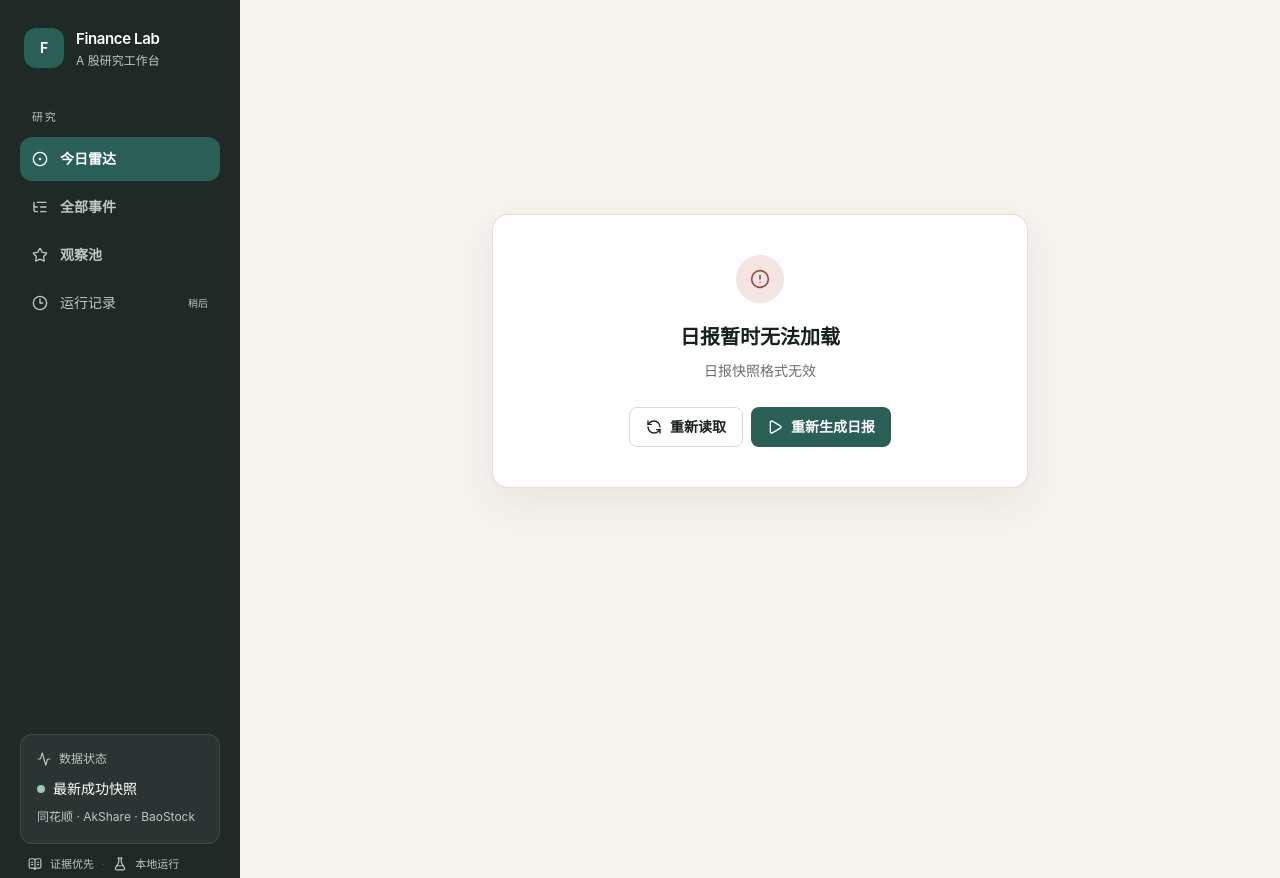
Test case: TodayPage › renders an API error and retries the latest snapshot
Check: the heading "日报暂时无法加载" is shown, box [680, 325, 840, 349]
Check: the text "日报快照格式无效" is shown, box [704, 362, 816, 379]
Click the button "重新读取".
click(686, 427)  # box [629, 407, 743, 447]
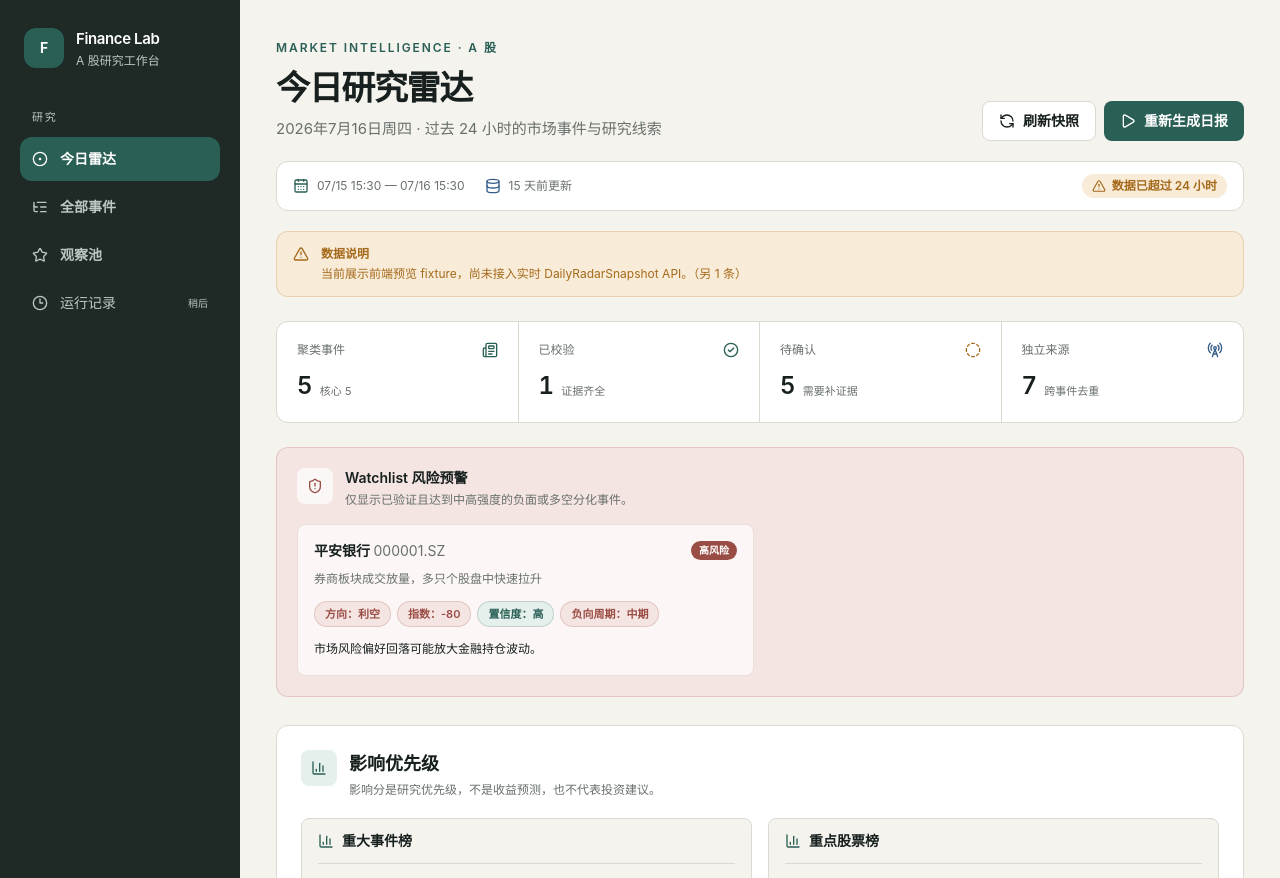
Check: the heading "今日研究雷达" is shown, box [276, 67, 472, 108]
